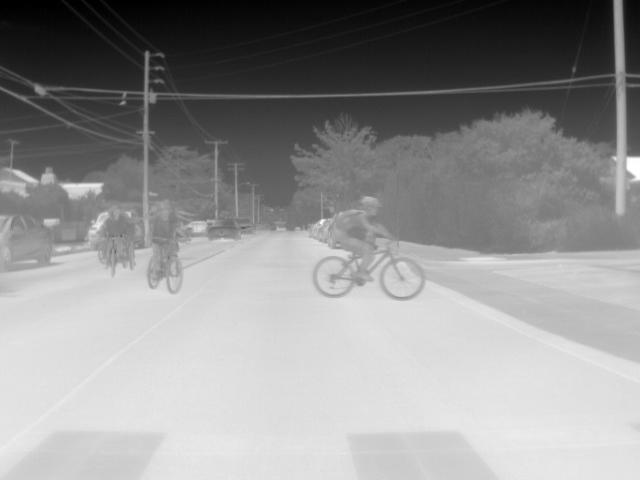car: (1, 209, 53, 271), (86, 210, 110, 248), (207, 216, 243, 241), (187, 219, 211, 238), (319, 218, 333, 244), (312, 219, 327, 239), (239, 218, 254, 234)
person: (321, 197, 393, 279), (146, 199, 180, 281), (100, 204, 128, 268)
